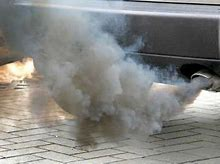smoke: (1, 26, 198, 135)
